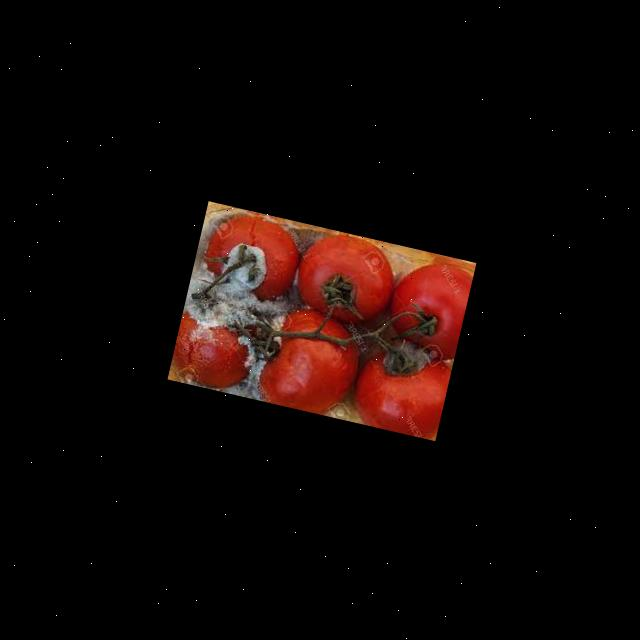tomato: (166, 200, 342, 409)
